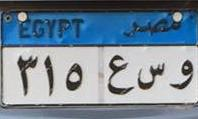1: (41, 54, 59, 97)
3: (14, 50, 38, 98)
5: (62, 59, 86, 96)
ain: (106, 49, 134, 97)
seen: (134, 59, 165, 92)
waw: (168, 53, 193, 92)
